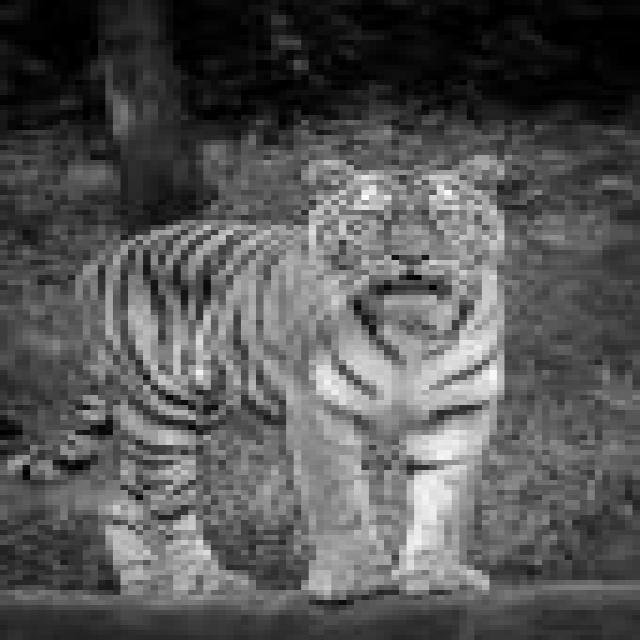TIGER: (0, 116, 581, 616)
